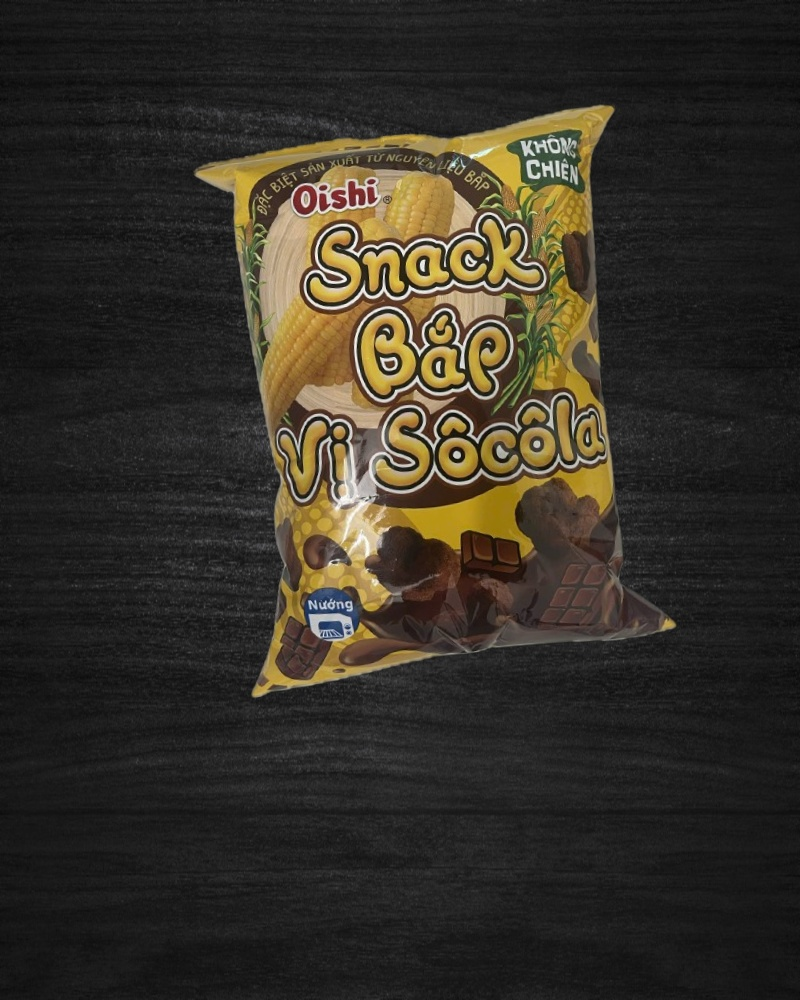Snack socola: (194, 106, 680, 687)
